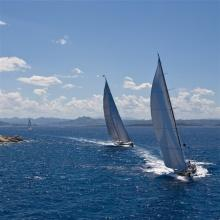fanchuan: (148, 51, 195, 177), (99, 74, 135, 152)
